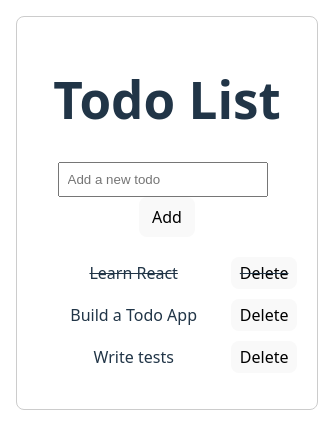
Test: allows a todo to be deleted
The image size is (335, 427).
Simulate a click on the delete button
Click the button "Delete" next to "Learn React" at (264, 273), box top-left (231, 257), bottom-right (298, 289)
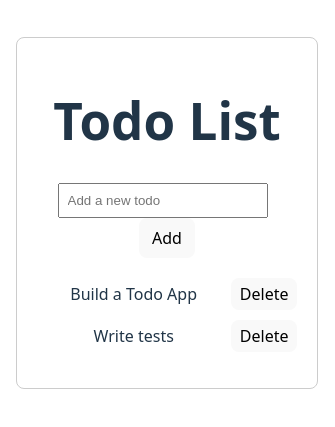
Expected: the text "Learn React" is gone
